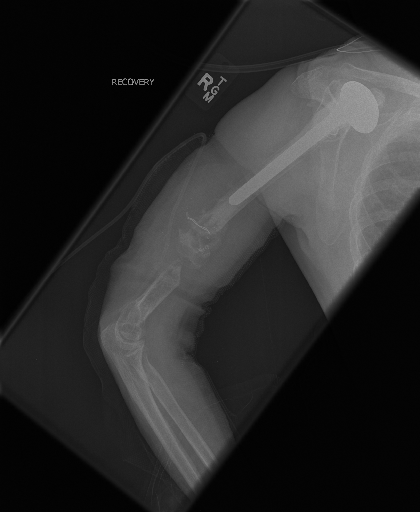implant: (229, 80, 380, 209)
